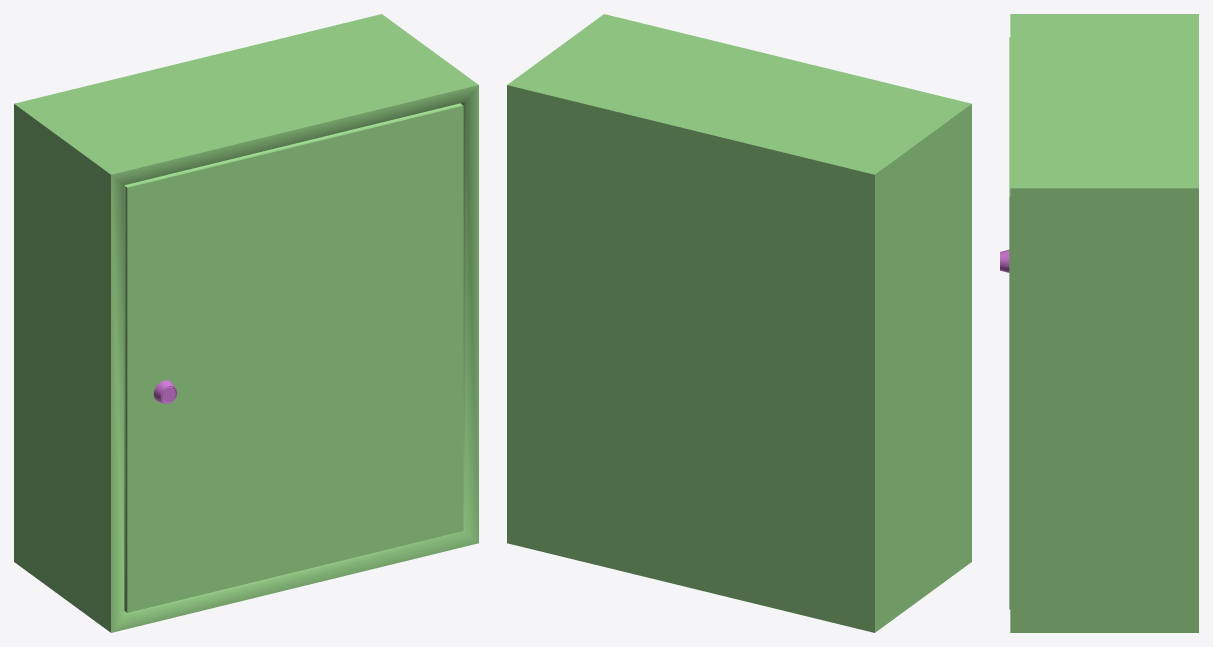
The model's file is med_kit.fbx.
The picture shows the model from 3 angles, left to right: view 1: azimuth 30°, elevation 25°; view 2: azimuth 150°, elevation 25°; view 3: azimuth 270°, elevation 25°; orthographic projection. The views are drawn at different scales.
Visible parts, largest first — view 1: med-kit; view 2: med-kit; view 3: med-kit.
Part boxes in pixels (x1,y1,x2,y2): med-kit: (14, 14, 478, 632); med-kit: (507, 14, 971, 632); med-kit: (1000, 14, 1198, 632).
Size of the model in its own units: 42 by 50 by 20.25.
